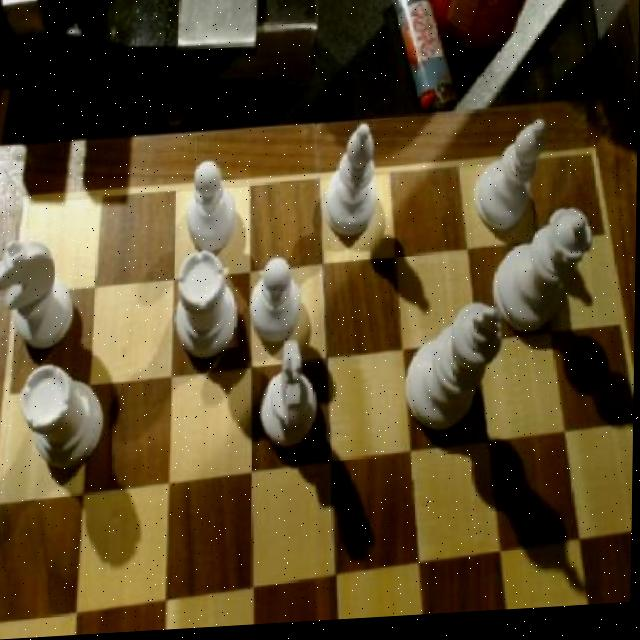black-rook: (472, 122, 549, 242), (320, 124, 383, 249)
white-bishop: (406, 299, 507, 439)
white-king: (0, 243, 75, 362), (256, 340, 322, 459)
white-knight: (180, 163, 242, 254), (247, 258, 303, 350)
white-pawn: (492, 208, 594, 336)
white-queen: (19, 356, 106, 479), (170, 250, 240, 369)
